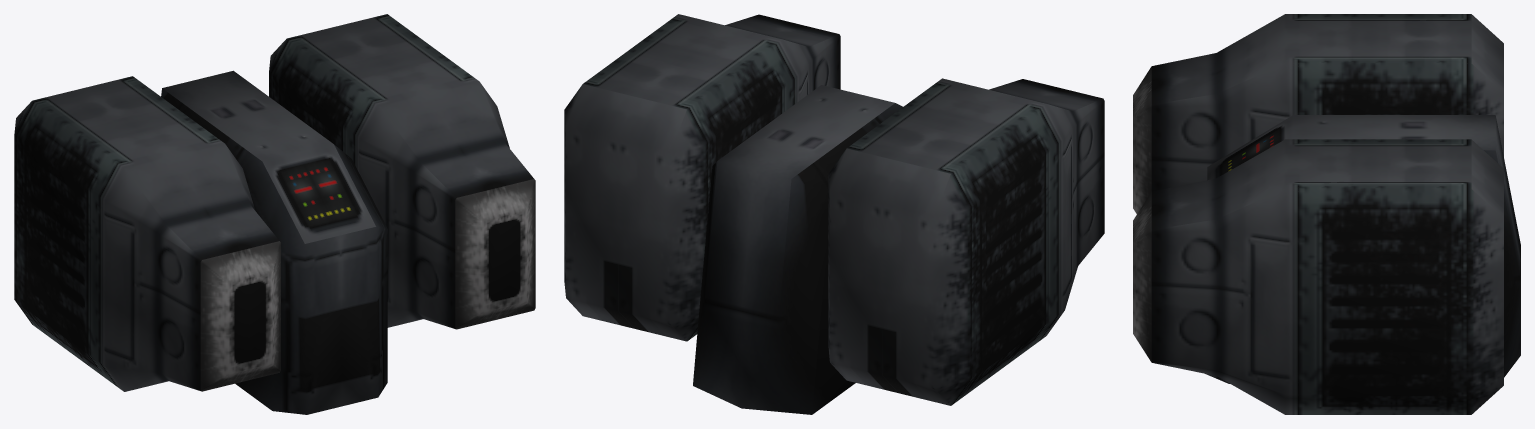
The model's file is andolianS-turret.obj.
3 views of the same model, side by side, from view 1: azimuth 30°, elevation 25°; view 2: azimuth 150°, elevation 25°; view 3: azimuth 270°, elevation 25° (orthographic). The views are drawn at different scales.
Visible parts, largest first — view 1: cube2_copy4, cube2_sep6; view 2: cube2_copy4, cube2_sep6; view 3: cube2_copy4, cube2_sep6.
Part boxes in pixels (<box>): cube2_copy4: <box>14,14,535,391</box>; cube2_sep6: <box>161,70,387,414</box>; cube2_copy4: <box>564,14,1104,405</box>; cube2_sep6: <box>693,85,902,414</box>; cube2_copy4: <box>1133,14,1503,414</box>; cube2_sep6: <box>1205,115,1520,383</box>.
Size of the model in its own units: 1.38 by 0.8512 by 1.18.
Materials: 2 (1 with a texture image).
